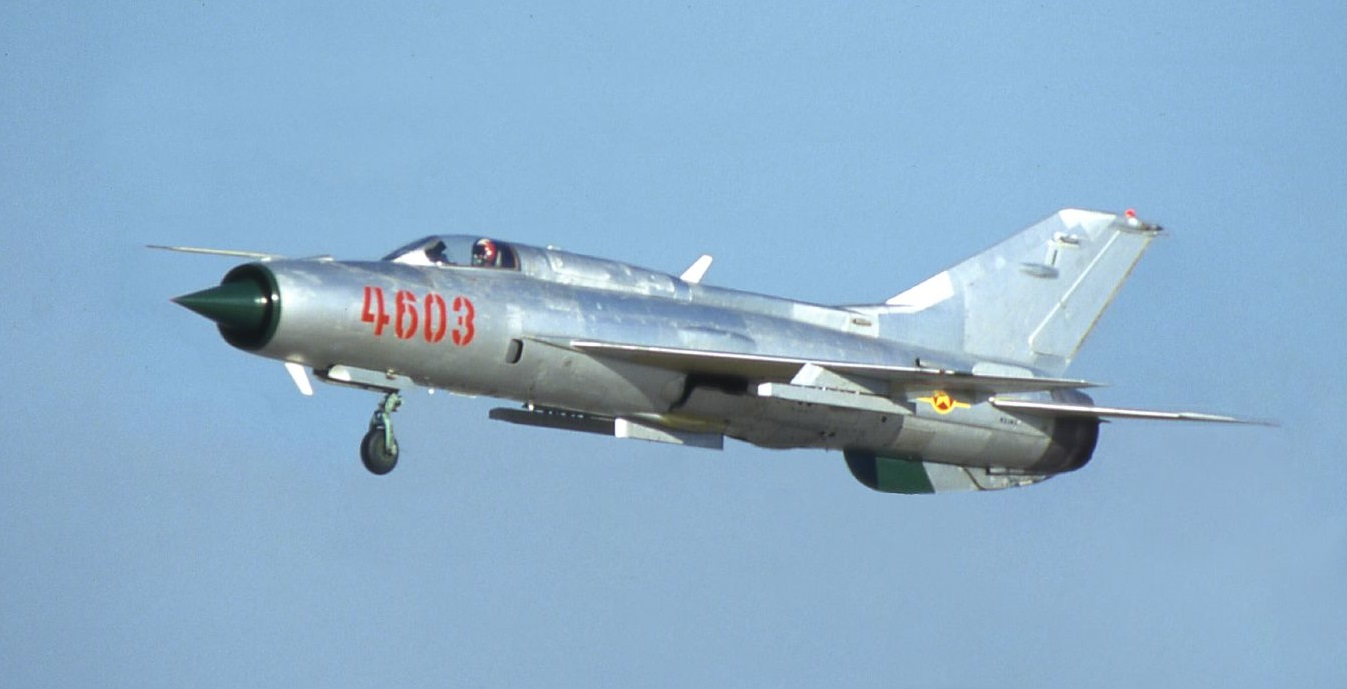Aeronef_militaire: (122, 167, 1299, 521)
